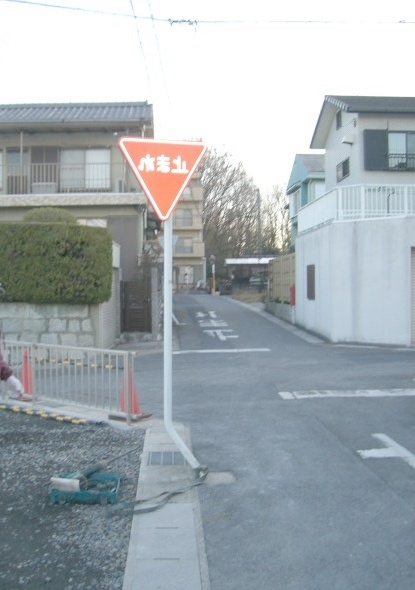Regulatory_sign_triangle: (115, 130, 211, 225)
